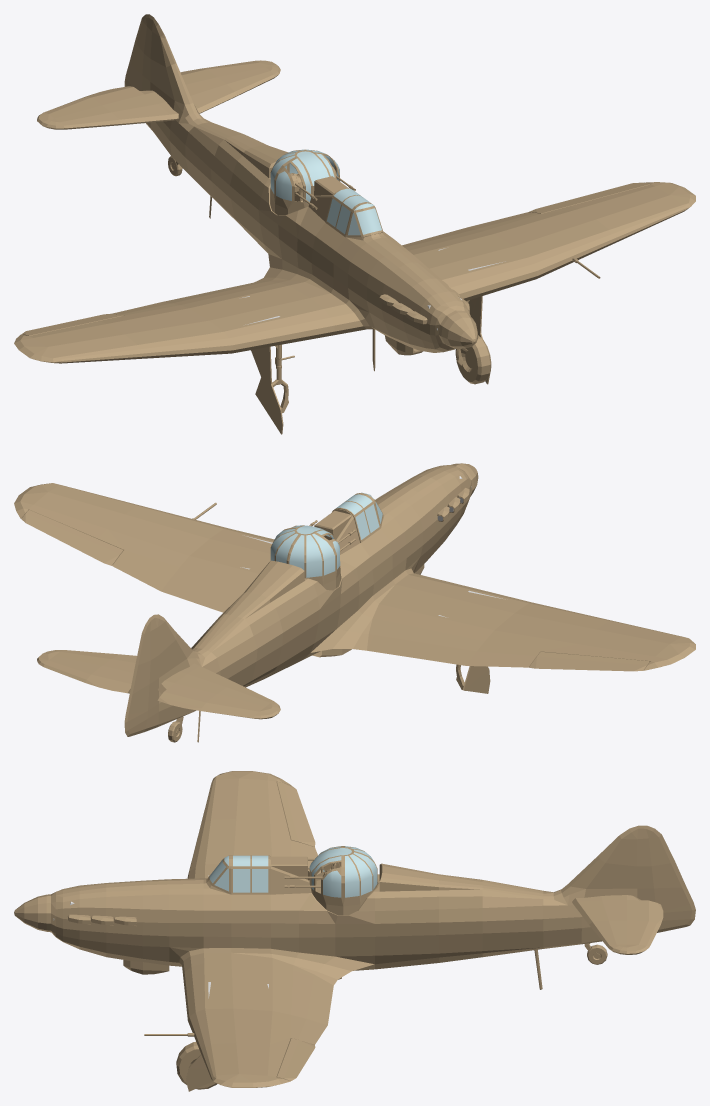
File: Defiant.fbx
The picture shows the model from 3 angles, top to bottom: view 1: azimuth 30°, elevation 25°; view 2: azimuth 150°, elevation 25°; view 3: azimuth 270°, elevation 25°; orthographic projection. The views are drawn at different scales.
Visible parts, largest first — view 1: Defiant Fuselage, Defiant Nose, Defiant Right Wing Base, Defiant Left Wing Base, Defiant Left Wing Center, Defiant Right Wing Center, Defiant Left Wing Tip, Defiant Right Wing Tip, Defiant Tail, Defiant Right Stabilizer, Defiant Left Stabilizer, Defiant Tail Tip (+13 smaller); view 2: Defiant Fuselage, Defiant Right Wing Base, Defiant Left Wing Center, Defiant Left Wing Base, Defiant Right Wing Center, Defiant Tail, Defiant Nose, Defiant Left Wing Tip, Defiant Right Wing Tip, Defiant Rudder, Defiant Turret Glass, Defiant Right Elevator (+12 smaller); view 3: Defiant Fuselage, Defiant Nose, Defiant Tail, Defiant Left Wing Base, Defiant Left Wing Center, Defiant Right Wing Center, Defiant Rudder, Defiant Right Wing Tip, Defiant Left Wing Tip, Defiant Tail Tip, Defiant Fin, Defiant Turret Glass (+11 smaller).
Part boxes in pixels (bbox=[...]): Defiant Fuselage: bbox=[230, 156, 410, 371]; Defiant Nose: bbox=[366, 251, 470, 355]; Defiant Right Wing Base: bbox=[161, 281, 334, 353]; Defiant Left Wing Base: bbox=[402, 228, 537, 300]; Defiant Left Wing Center: bbox=[466, 206, 614, 278]; Defiant Right Wing Center: bbox=[99, 302, 232, 358]; Defiant Left Wing Tip: bbox=[571, 182, 695, 243]; Defiant Right Wing Tip: bbox=[14, 321, 143, 363]; Defiant Tail: bbox=[185, 122, 243, 222]; Defiant Right Stabilizer: bbox=[55, 90, 178, 129]; Defiant Left Stabilizer: bbox=[186, 67, 274, 113]; Defiant Tail Tip: bbox=[150, 82, 210, 174]; Defiant Fuselage: bbox=[238, 493, 435, 677]; Defiant Right Wing Base: bbox=[367, 579, 533, 665]; Defiant Left Wing Center: bbox=[99, 502, 227, 591]; Defiant Left Wing Base: bbox=[161, 528, 274, 612]; Defiant Right Wing Center: bbox=[466, 603, 611, 667]; Defiant Tail: bbox=[191, 598, 282, 687]; Defiant Nose: bbox=[379, 465, 472, 574]; Defiant Left Wing Tip: bbox=[14, 483, 139, 539]; Defiant Right Wing Tip: bbox=[570, 620, 695, 670]; Defiant Rudder: bbox=[124, 614, 165, 736]; Defiant Turret Glass: bbox=[270, 525, 340, 577]; Defiant Right Elevator: bbox=[157, 683, 280, 719]; Defiant Fuselage: bbox=[169, 855, 438, 985]; Defiant Nose: bbox=[51, 879, 169, 974]; Defiant Tail: bbox=[439, 880, 543, 962]; Defiant Left Wing Base: bbox=[183, 962, 333, 1025]; Defiant Left Wing Center: bbox=[144, 1008, 327, 1050]; Defiant Right Wing Center: bbox=[188, 819, 320, 874]; Defiant Rudder: bbox=[617, 825, 695, 932]; Defiant Right Wing Tip: bbox=[201, 771, 290, 824]; Defiant Left Wing Tip: bbox=[200, 1043, 290, 1087]; Defiant Tail Tip: bbox=[543, 884, 637, 948]; Defiant Fin: bbox=[568, 838, 637, 888]; Defiant Turret Glass: bbox=[309, 846, 377, 897].
Size of what is drawn, in the model's own units: 1135 by 363 by 1033.
